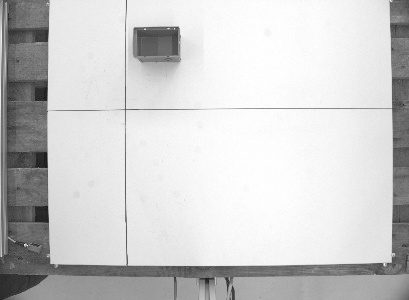kltxs: (130, 23, 185, 64)
